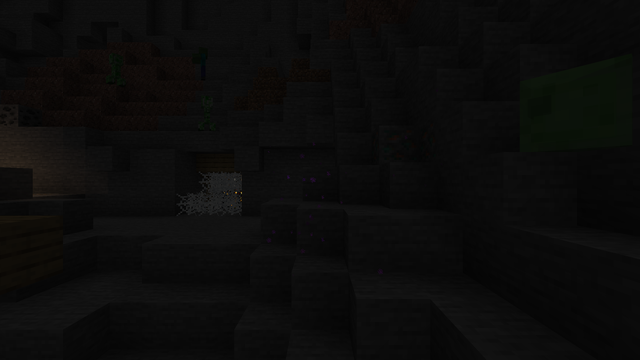creepers: (106, 51, 125, 85), (197, 94, 214, 131)
slimes: (510, 57, 621, 155)
zombies: (196, 47, 209, 79)
